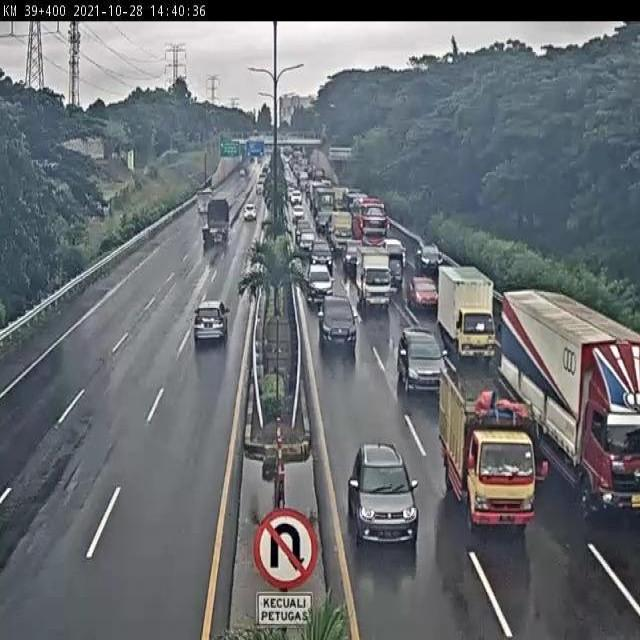car: (347, 444, 418, 543), (396, 327, 447, 395), (319, 296, 358, 349), (191, 299, 234, 347), (405, 274, 439, 310), (307, 265, 335, 304), (382, 247, 408, 288)
truck: (502, 288, 640, 517), (440, 371, 530, 521), (437, 263, 496, 363), (355, 244, 392, 309), (199, 201, 231, 255)
